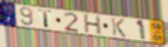1: (136, 20, 147, 41)
2: (62, 11, 81, 34)
9: (19, 7, 34, 27)
H: (84, 14, 103, 37)
K: (110, 16, 127, 38)
T: (38, 9, 54, 29)
